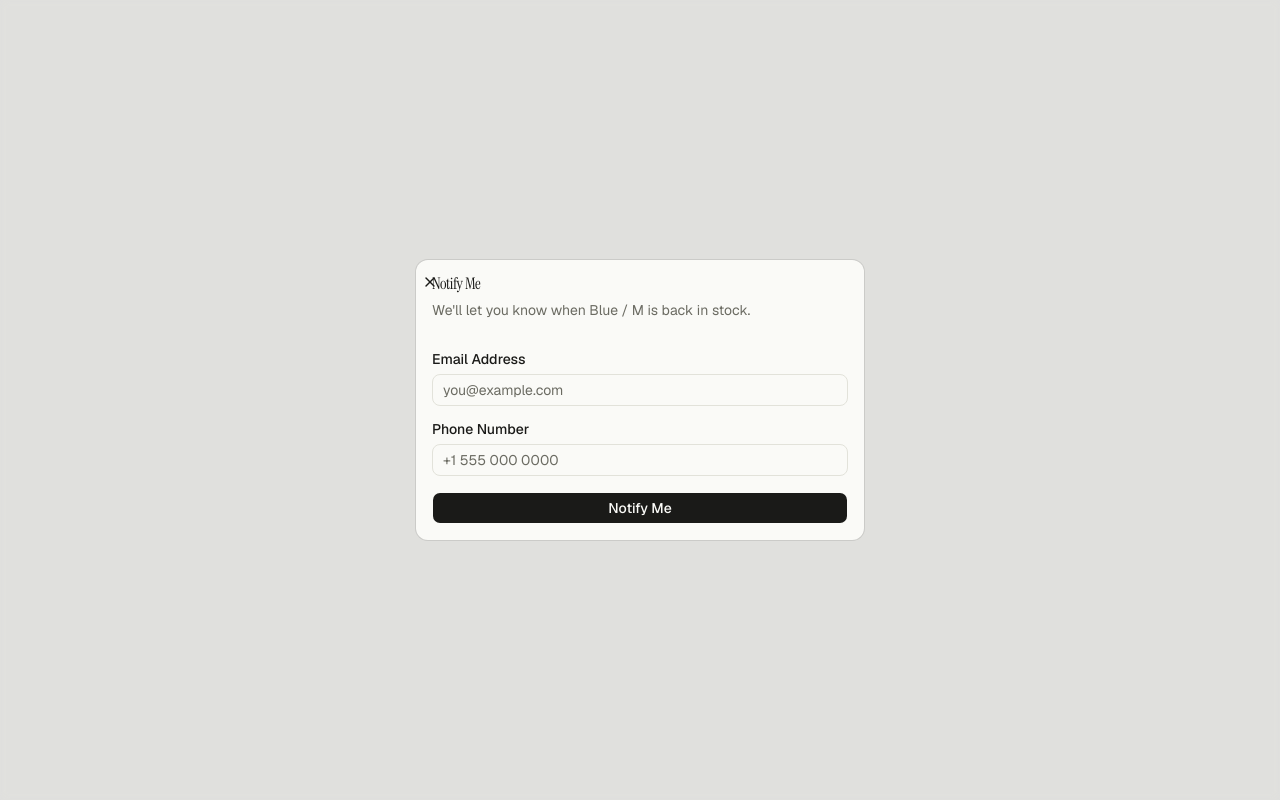
Test: NotifyMeDialog › shows the invalid-email error when the email field is malformed
Type "not-an-email" into the field labelled "Email Address".
click(640, 390); type("not-an-email")  # box [432, 374, 848, 406]
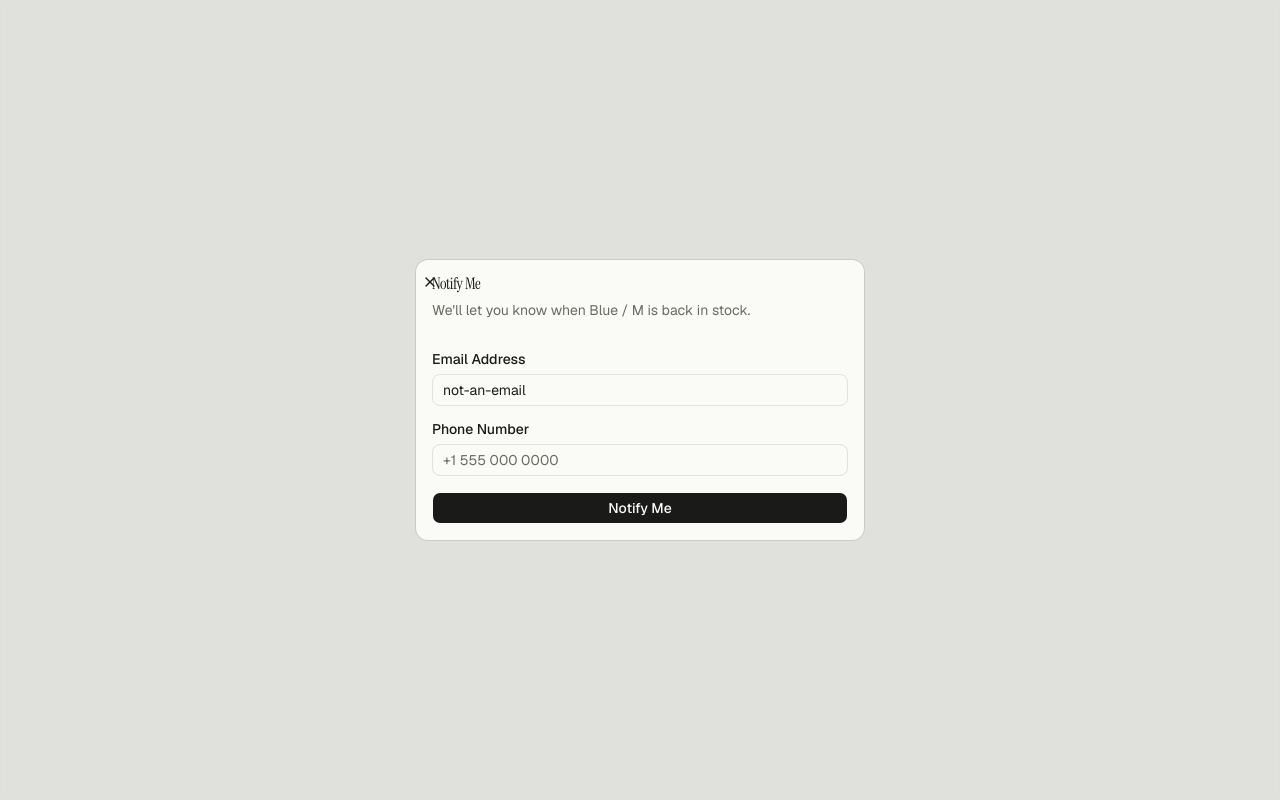
Submit the form, box [432, 352, 848, 524]
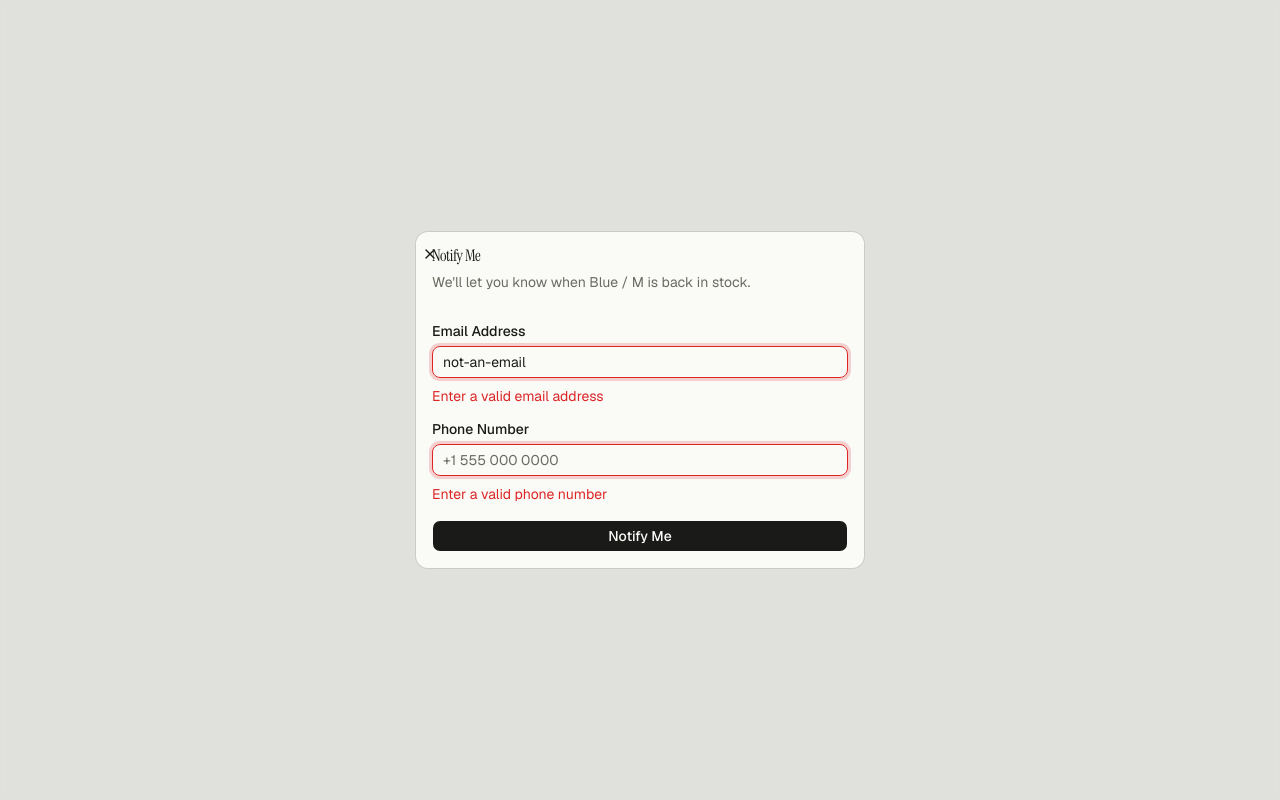
Now the text "Enter a valid email address" is shown, box [432, 387, 604, 405]
